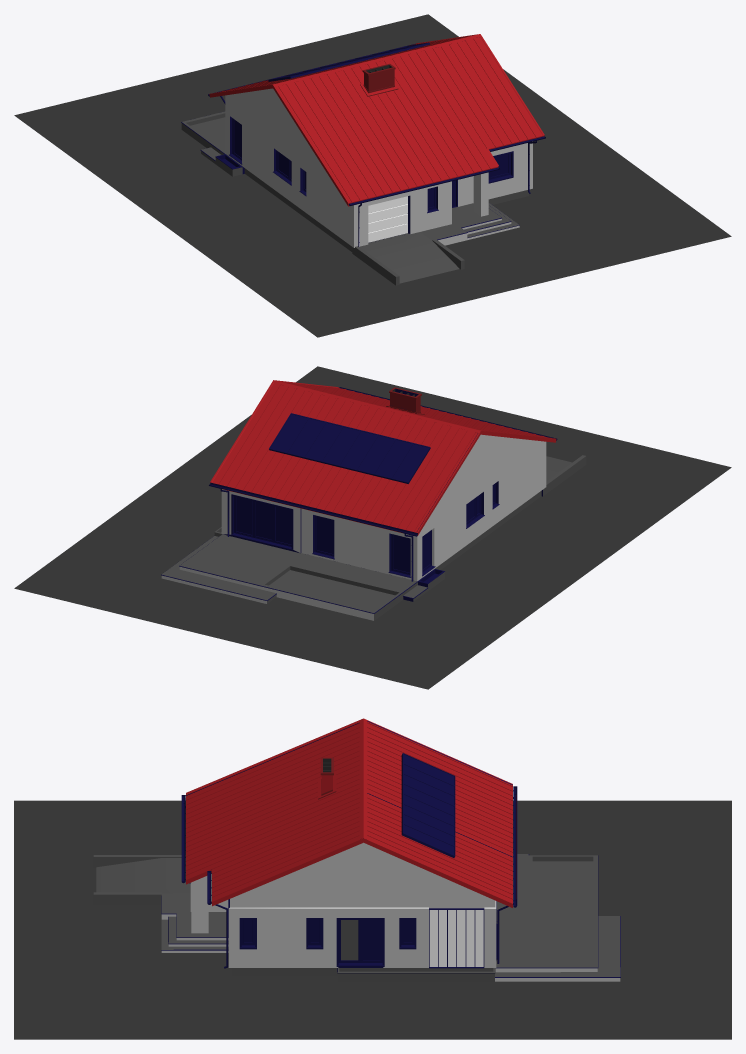
File: HouseLGType1.gltf
3 views of the same model, one above another, from view 1: azimuth 30°, elevation 25°; view 2: azimuth 150°, elevation 25°; view 3: azimuth 270°, elevation 25° (orthographic). The views are drawn at different scales.
Visible parts, largest first — view 1: example house 01; view 2: example house 01; view 3: example house 01.
Boxes of the visible parts, x1,y1,x2,y2 form: example house 01: (14,14,731,337); example house 01: (14,366,731,689); example house 01: (14,718,731,1039).
Bounding box in the file's own units: 2451 × 719 × 3112.
